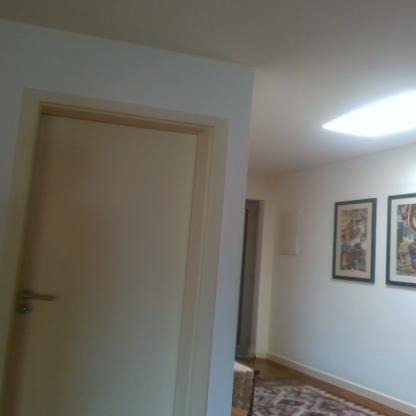door: (16, 124, 180, 416)
lever: (18, 292, 57, 302)
